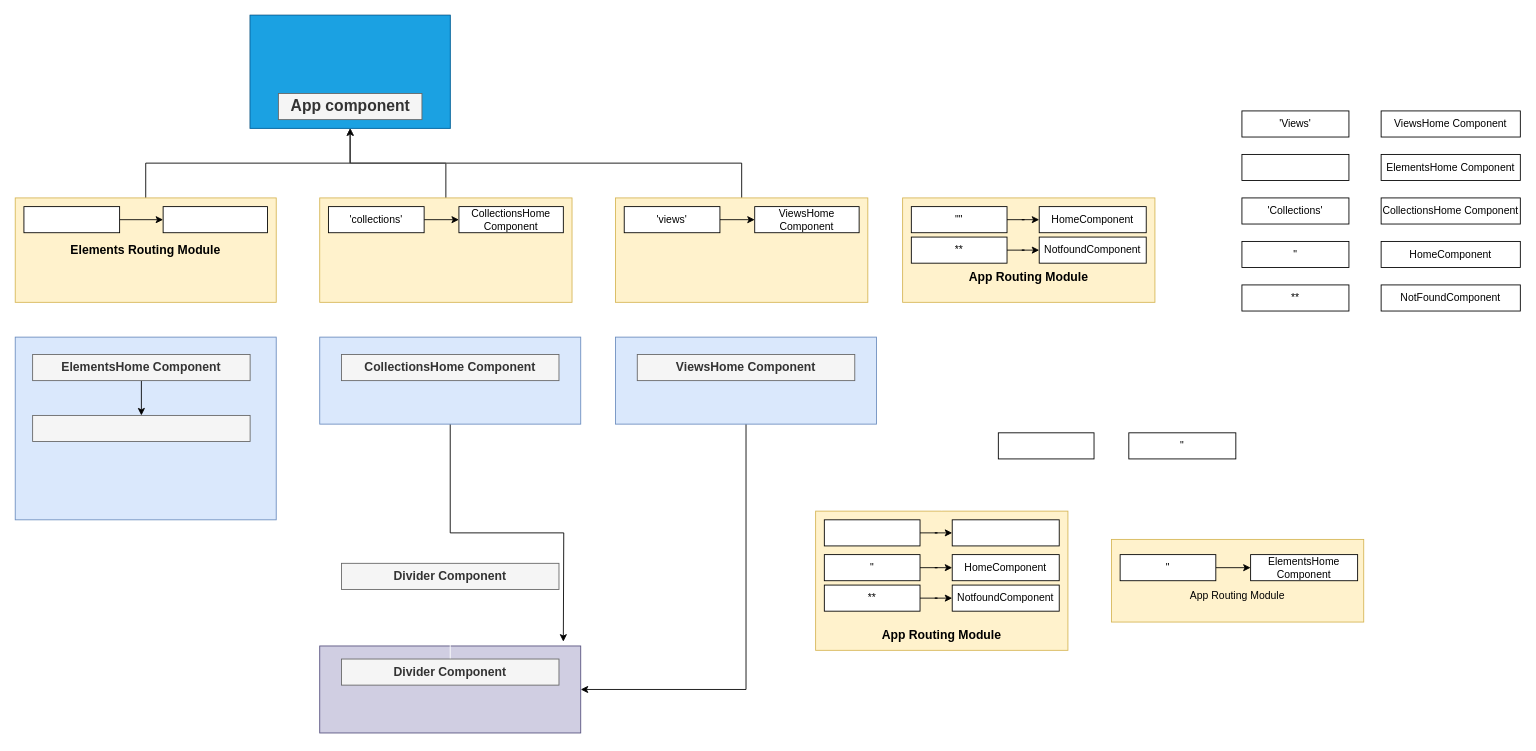
This 1536x751 diagram has some shape labels left out. Each missing label, with the box of its shape:
'element': (23, 206, 120, 233)
'Elements': (1241, 154, 1349, 181)
App Module: (249, 14, 450, 128)
Collections Module: (319, 336, 581, 424)
Collections Routing Module: (319, 197, 572, 302)
Element/: (997, 432, 1094, 459)
ElementHome Component: (162, 206, 268, 233)
elements: (823, 519, 920, 546)
Elements Module: (14, 336, 276, 520)
Load ElementsModule: (951, 519, 1059, 546)
Placeholder Component: (32, 415, 250, 442)
Shared Module: (319, 645, 581, 733)
Views Module: (615, 336, 877, 424)
Views Routing Module: (615, 197, 868, 302)
